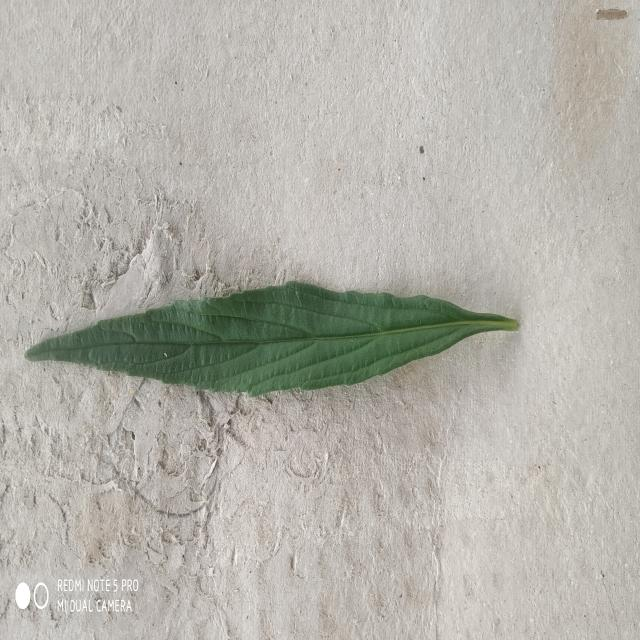thambe: (25, 282, 518, 396)
